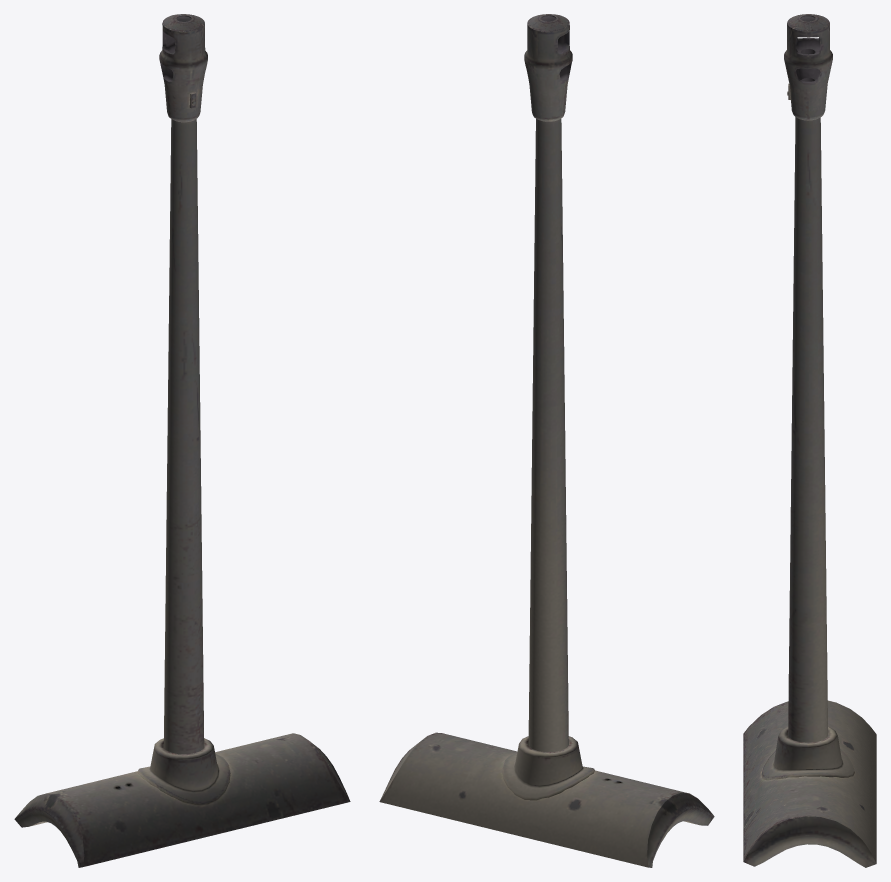
Rendered from Gun_04.glb.
The picture shows the model from 3 angles, left to right: view 1: azimuth 30°, elevation 25°; view 2: azimuth 150°, elevation 25°; view 3: azimuth 270°, elevation 25°; orthographic projection.
Parts seen in each view (by area): view 1: set_0_group_0; view 2: set_0_group_0; view 3: set_0_group_0.
Part boxes in pixels (left/top/right/bottom): set_0_group_0: left=14, top=14, right=350, bottom=867; set_0_group_0: left=379, top=14, right=714, bottom=867; set_0_group_0: left=743, top=14, right=876, bottom=867.
Bounding box in the file's own units: 1.54 × 4.36 × 0.6704.
Materials: 1 (1 with a texture image).
